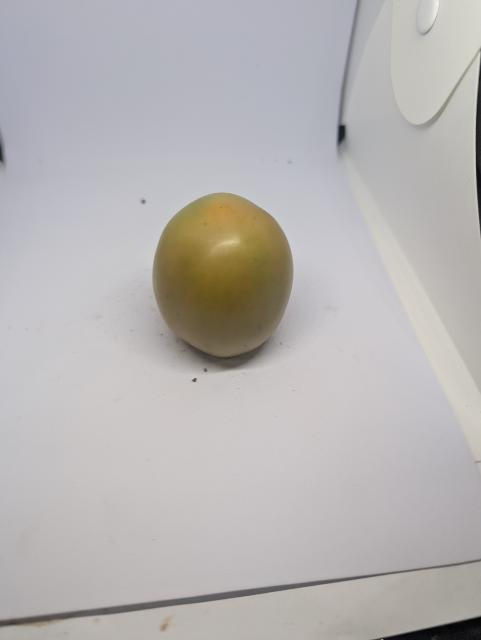breaker: (153, 193, 293, 357)
